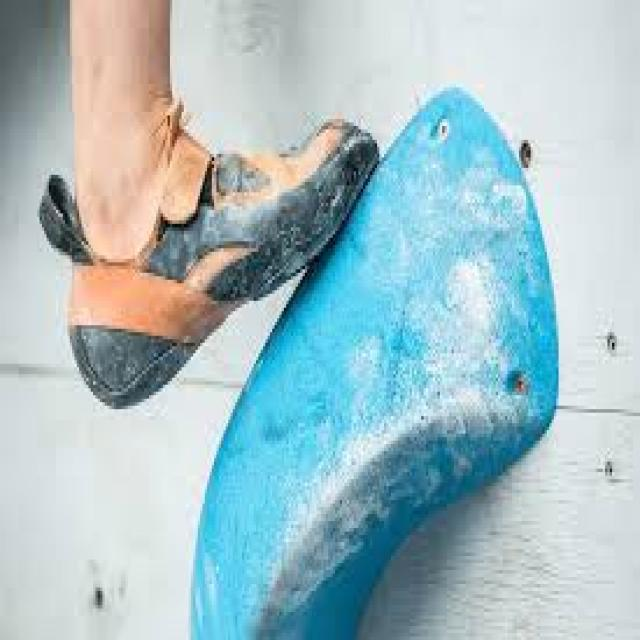climbing-shoes: (41, 114, 382, 412)
